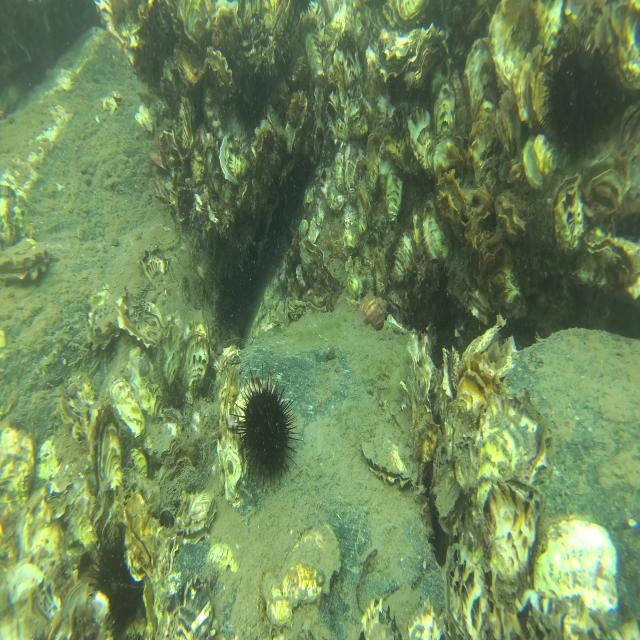echinus: (542, 35, 619, 165), (232, 367, 300, 489), (86, 532, 145, 632), (235, 70, 268, 132)
